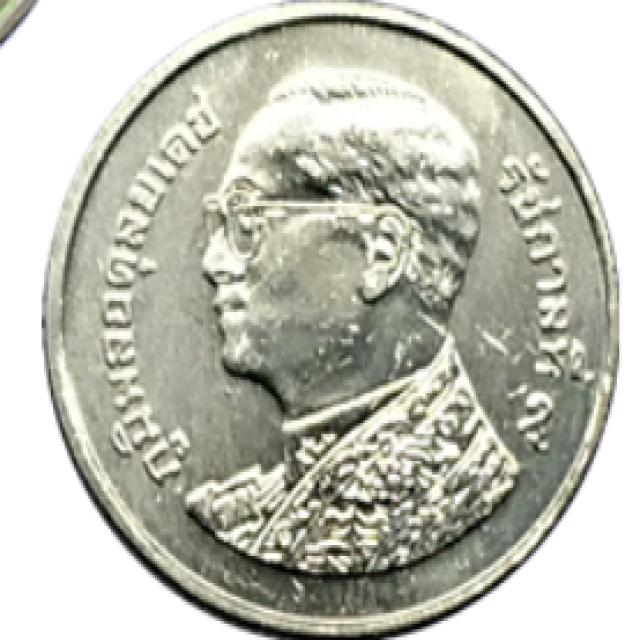1 Bath: (32, 1, 629, 638)
